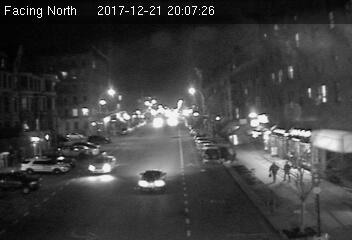car: (136, 169, 168, 190), (88, 152, 117, 174), (201, 146, 222, 163)
pedestrian: (268, 160, 281, 187), (283, 160, 292, 184)
